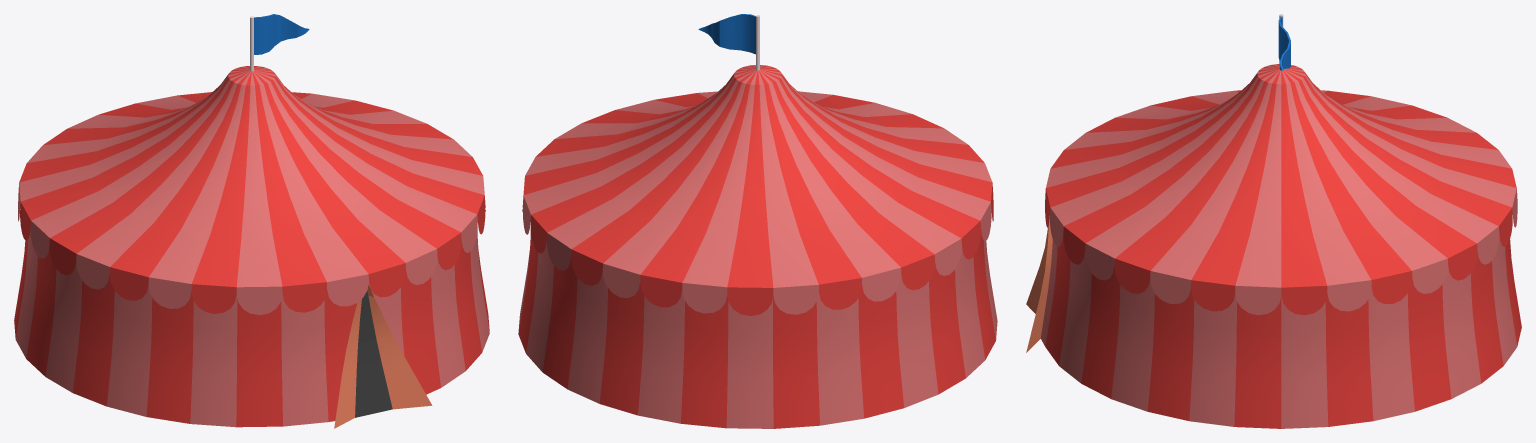
The model's file is circus_tent.fbx.
The picture shows the model from 3 angles, left to right: view 1: azimuth 30°, elevation 25°; view 2: azimuth 150°, elevation 25°; view 3: azimuth 270°, elevation 25°; orthographic projection.
Visible parts, largest first — view 1: Circle.2374; view 2: Circle.2374; view 3: Circle.2374.
Boxes of the visible parts, x1,y1,x2,y2 form: Circle.2374: (14, 14, 489, 428); Circle.2374: (518, 14, 997, 428); Circle.2374: (1026, 14, 1521, 428).
Bounding box in the file's own units: 231 × 167 × 238.
Materials: 1 (1 with a texture image).
